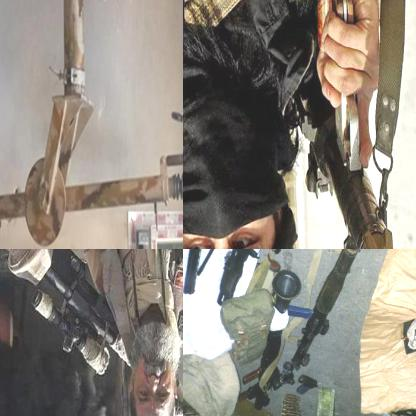rifle: (0, 249, 182, 415), (303, 0, 415, 248), (289, 249, 384, 370), (241, 266, 307, 409), (216, 249, 299, 306), (183, 249, 227, 297)
